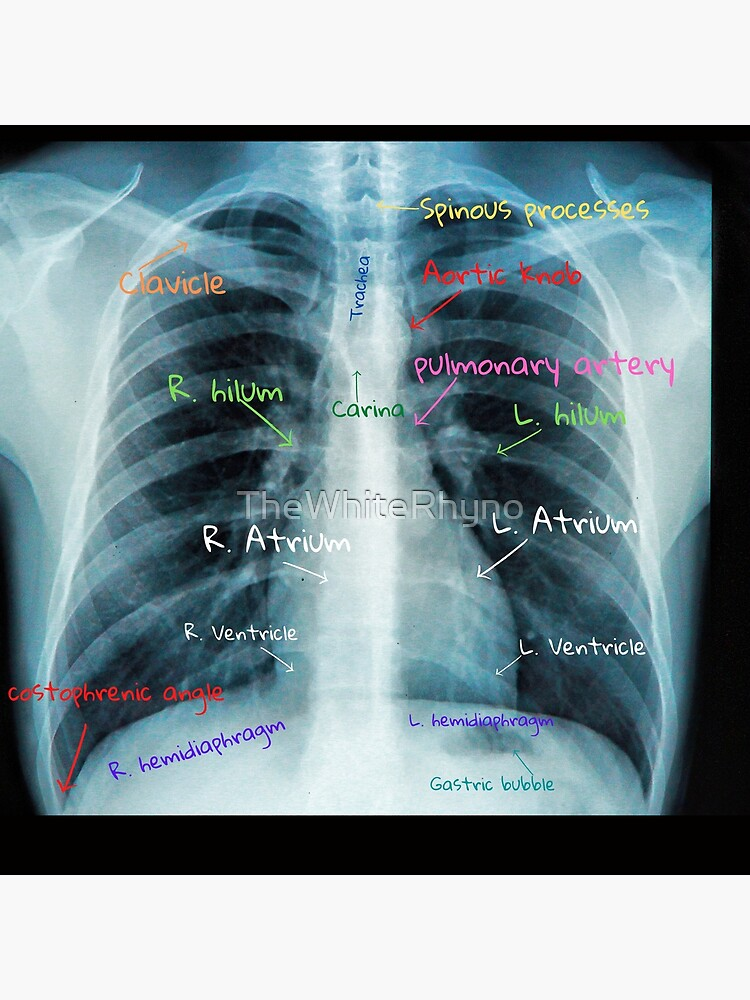telestration: (105, 720, 285, 781), (407, 349, 685, 388), (419, 192, 649, 224), (483, 501, 644, 542), (7, 681, 233, 705), (198, 523, 350, 558), (158, 366, 285, 406), (420, 259, 586, 288), (407, 704, 550, 736), (510, 397, 628, 432), (518, 632, 643, 661), (234, 398, 300, 447), (116, 267, 223, 297), (182, 614, 292, 643), (472, 534, 533, 583), (422, 774, 564, 793), (405, 287, 466, 331), (410, 376, 459, 429), (56, 718, 87, 793), (489, 428, 547, 458), (275, 559, 334, 587), (136, 238, 190, 267), (251, 643, 299, 675), (505, 749, 537, 772)
